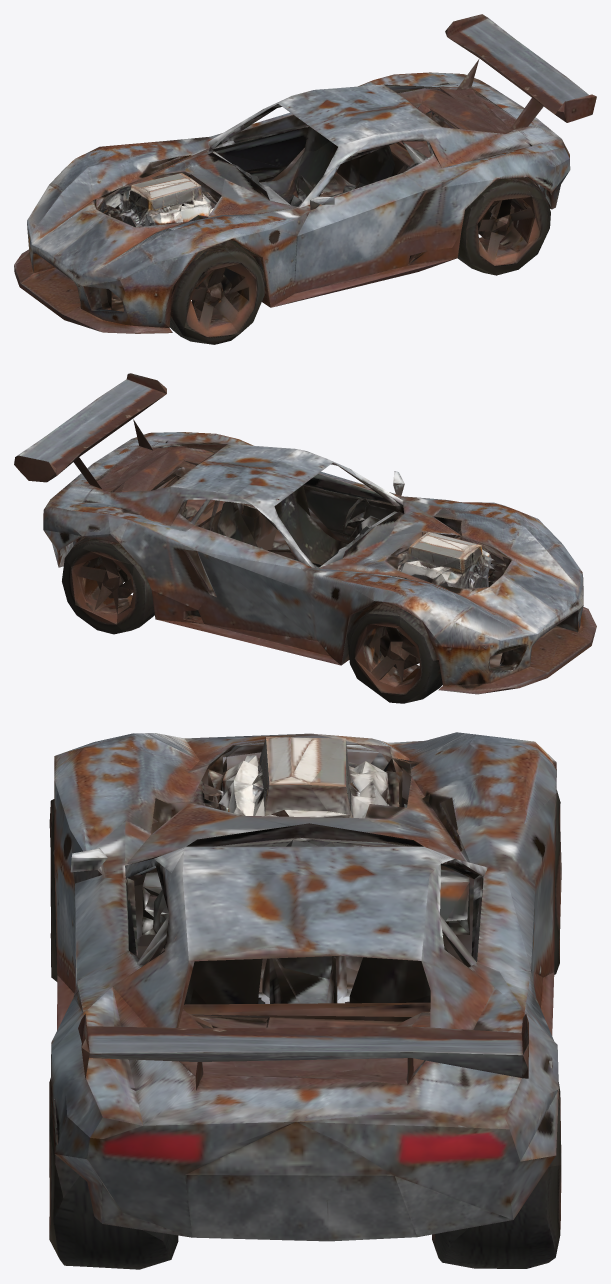
The model's file is redline-carcass-high.glb.
3 views of the same model, one above another, from view 1: azimuth 30°, elevation 25°; view 2: azimuth 150°, elevation 25°; view 3: azimuth 270°, elevation 25° (orthographic). The views are drawn at different scales.
Bounding box in the file's own units: 1.89 × 0.5623 × 0.8405.
Materials: 1 (1 with a texture image).
